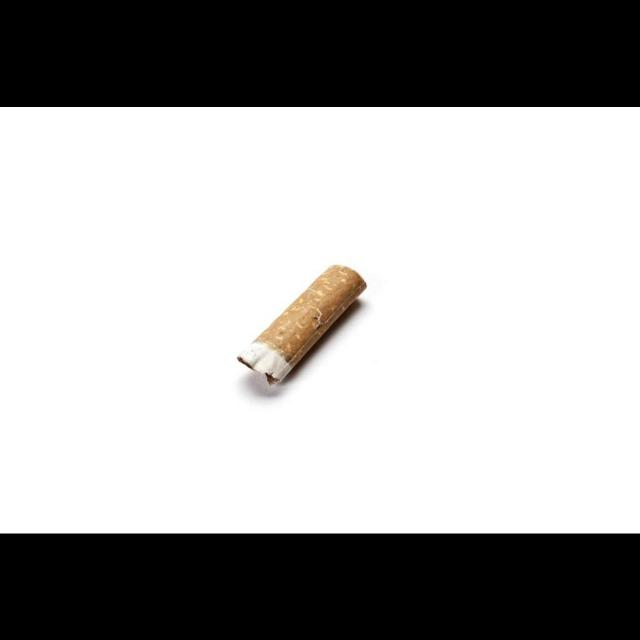cigarette: (237, 265, 367, 386)
